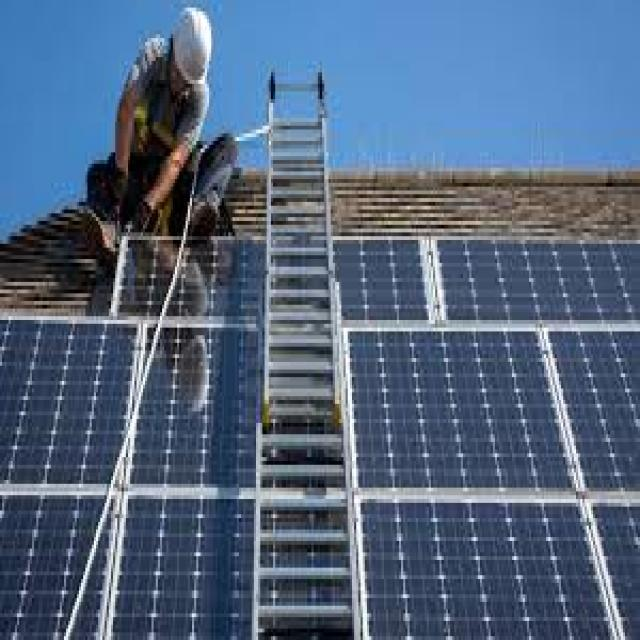clean-solar-panel: (334, 243, 640, 638), (0, 239, 262, 638)
